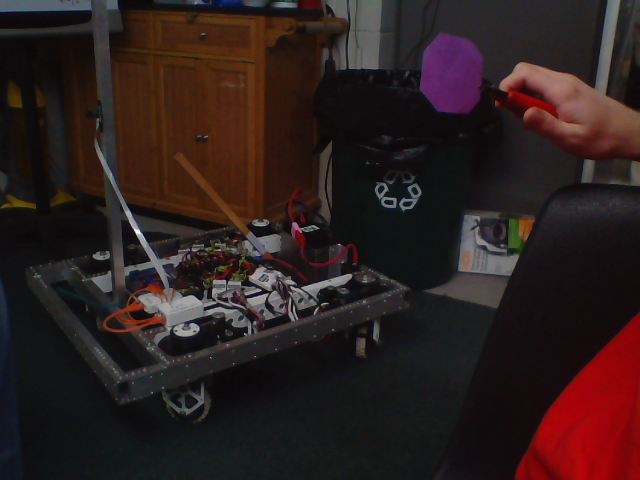ball: (419, 31, 484, 115)
